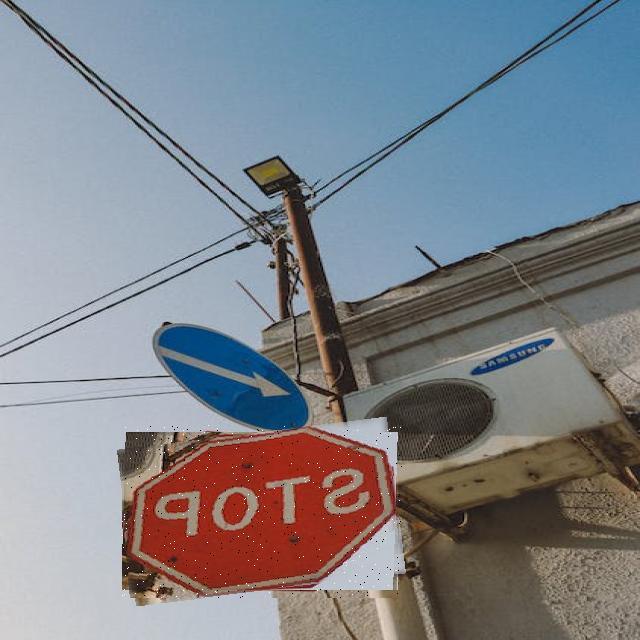stop: (122, 425, 402, 598)
